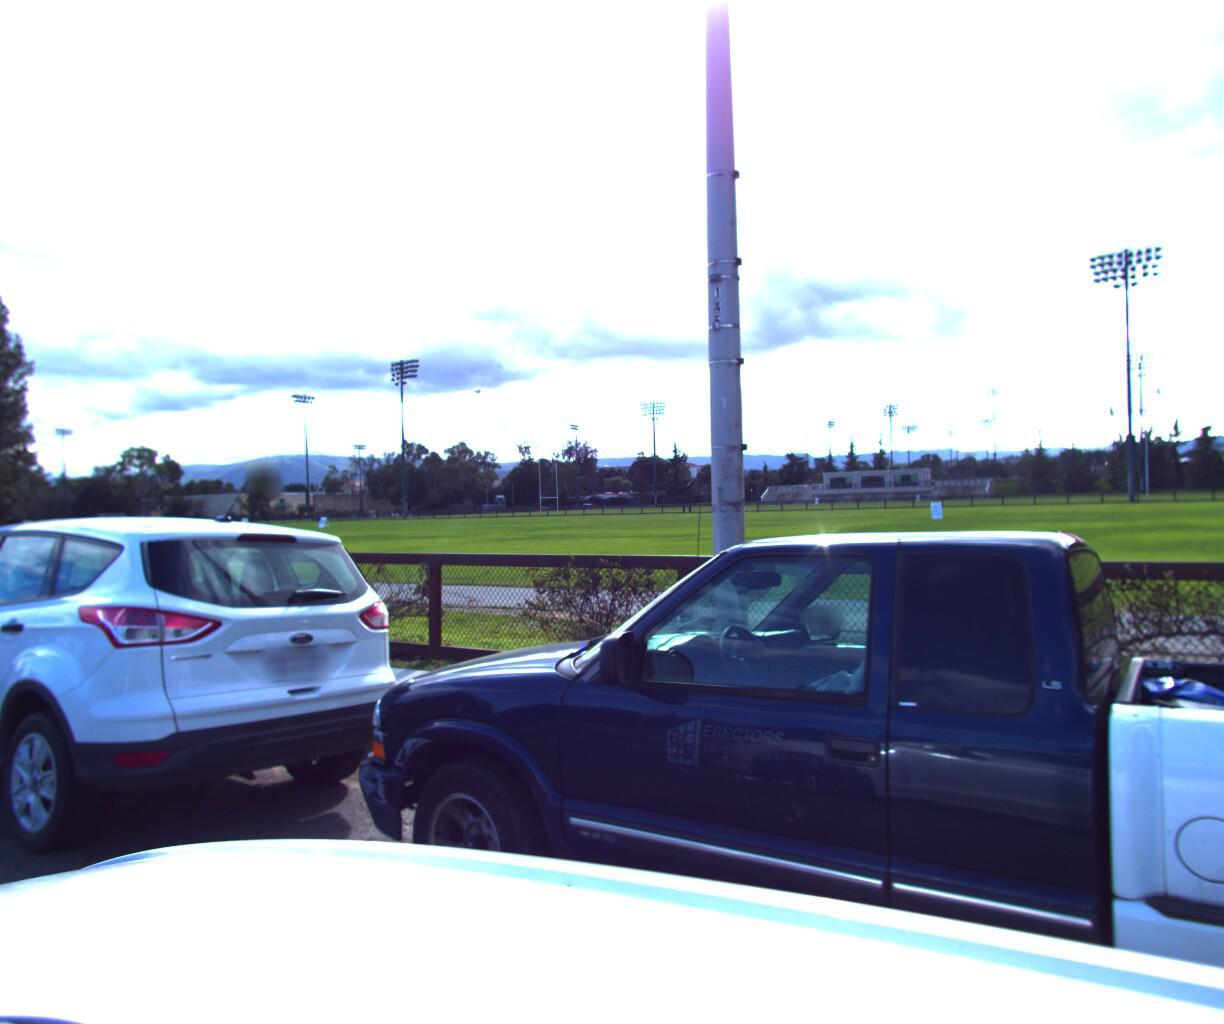bus: (0, 295, 35, 747)
car: (294, 500, 1224, 1024), (0, 508, 451, 911)
